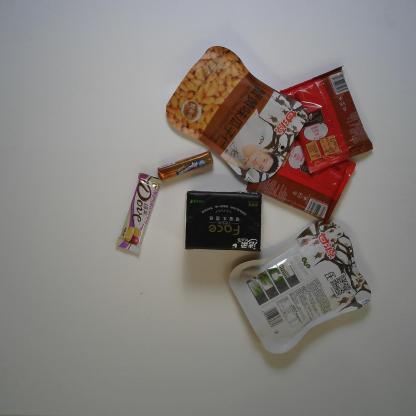Candy: (157, 150, 214, 180)
Chocolate: (115, 172, 163, 254)
Dessert: (280, 64, 374, 175), (245, 136, 357, 225)
Dried Fruit: (165, 45, 309, 185), (228, 220, 372, 356)
Tissue: (183, 189, 262, 253)
